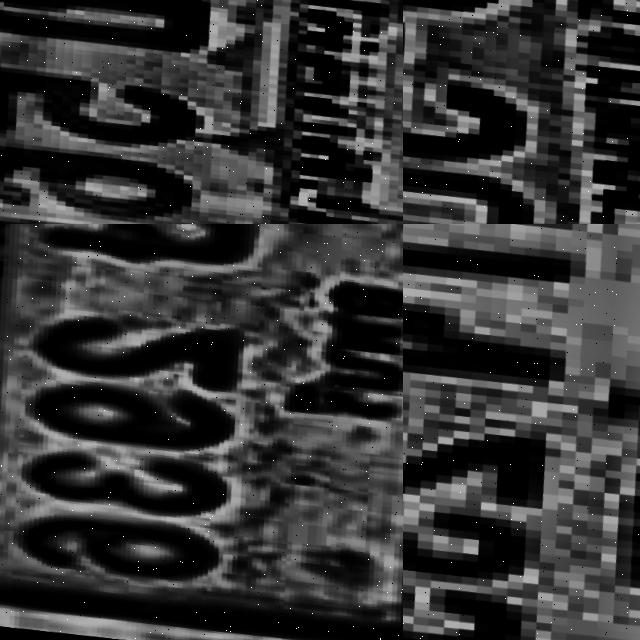license-plate: (0, 224, 403, 640), (403, 224, 640, 640), (0, 0, 403, 224), (403, 0, 640, 224)
